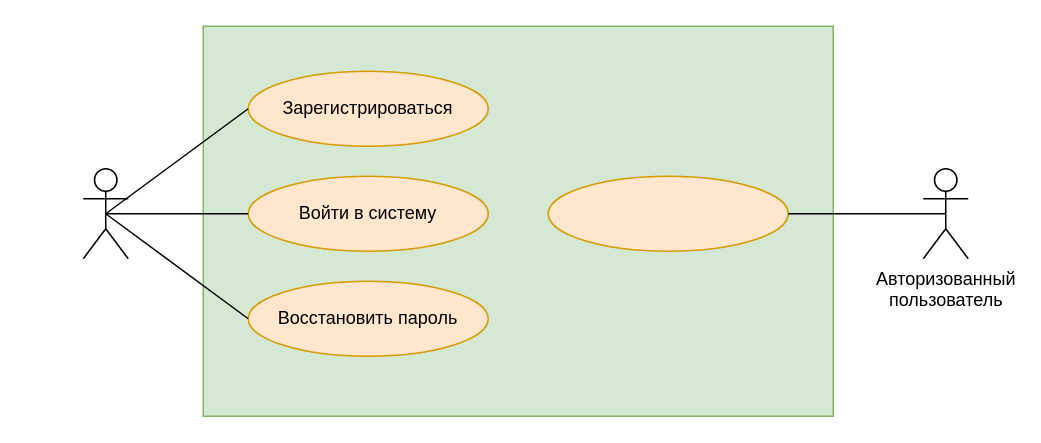
This 1041x443 diagram has some shape labels left out. Each missing label, with the centre of its shape:
"Выйти из системы" belongs at point 667,213.
"Неавторизованный пользователь" belongs at point 105,213.
